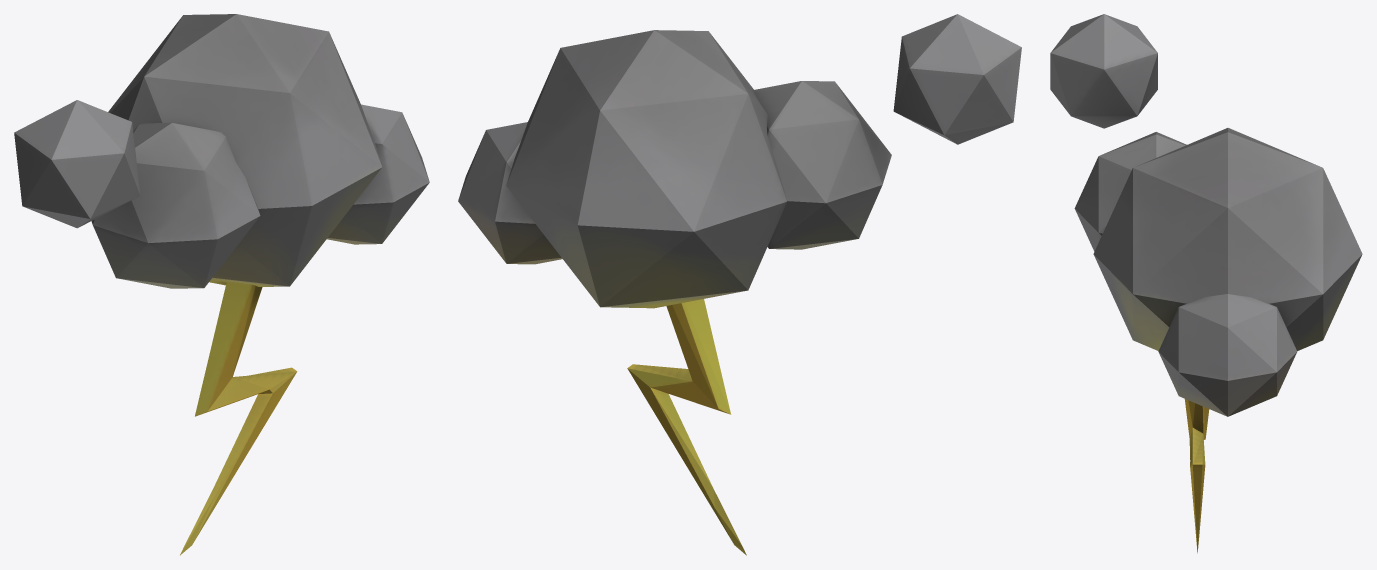
The model's file is Cloud_21.fbx.
3 renders of one model, left to right at view 1: azimuth 30°, elevation 25°; view 2: azimuth 150°, elevation 25°; view 3: azimuth 270°, elevation 25°, orthographic. The views are drawn at different scales.
Parts seen in each view (by area): view 1: Cloud_21; view 2: Cloud_21; view 3: Cloud_21.
Boxes of the visible parts, x1=… form: Cloud_21: x1=14, y1=14, x2=429, y2=555; Cloud_21: x1=458, y1=14, x2=1021, y2=555; Cloud_21: x1=1050, y1=14, x2=1362, y2=553.
Size of the model in its own units: 80.27 by 51.89 by 87.03.
Materials: 1 (1 with a texture image).
